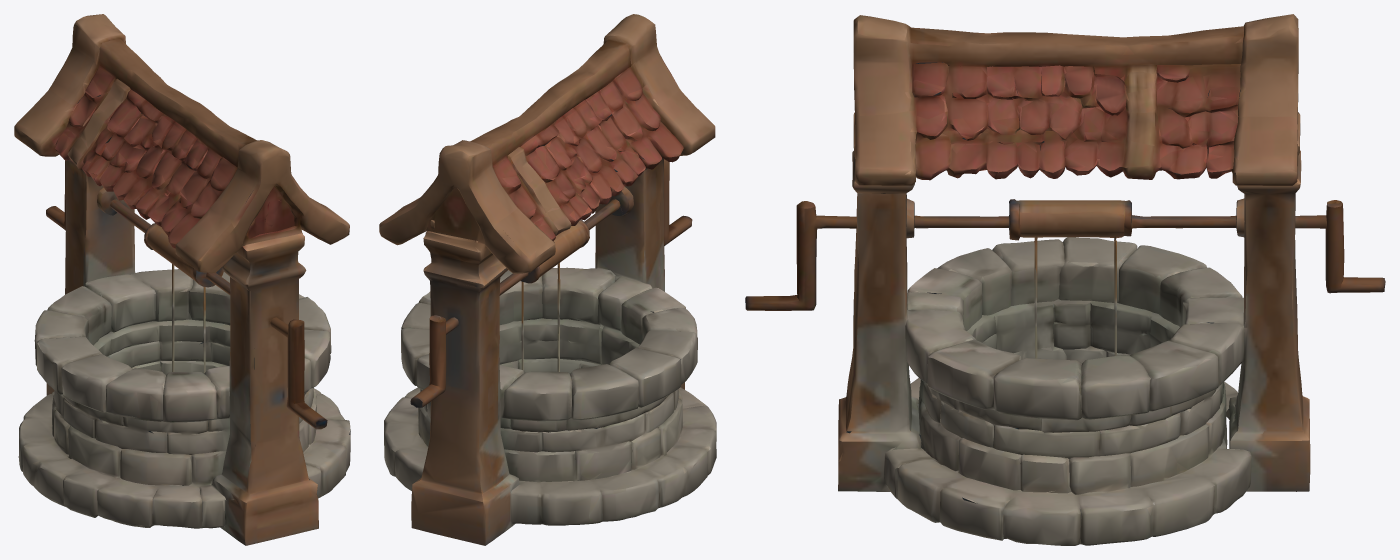
The model's file is WellRedRoof.glb.
The picture shows the model from 3 angles, left to right: view 1: azimuth 30°, elevation 25°; view 2: azimuth 150°, elevation 25°; view 3: azimuth 270°, elevation 25°; orthographic projection. The views are drawn at different scales.
Parts seen in each view (by area): view 1: WellRedRoof; view 2: WellRedRoof; view 3: WellRedRoof.
Part boxes in pixels (box(x1,y1,x2,y2)): WellRedRoof: box(14, 14, 350, 545); WellRedRoof: box(379, 14, 716, 545); WellRedRoof: box(745, 14, 1385, 545).
Bounding box in the file's own units: 1.91 × 2.43 × 3.12.
1 material, 1 textured.
